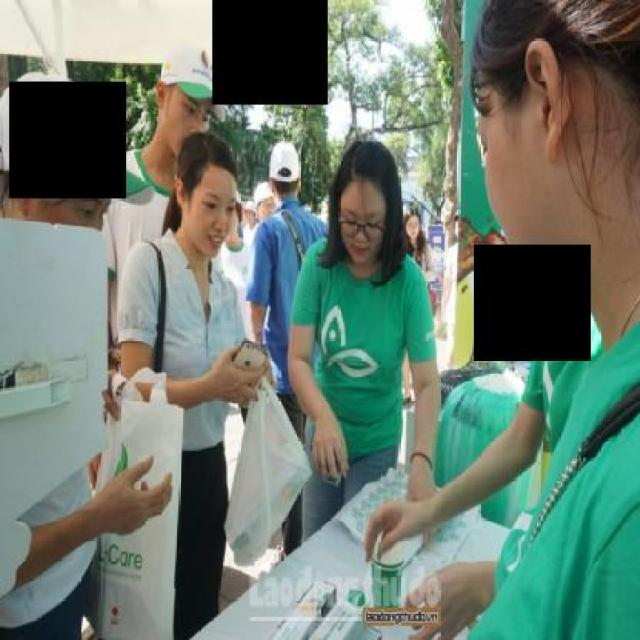plastic bag: (223, 377, 311, 572)
